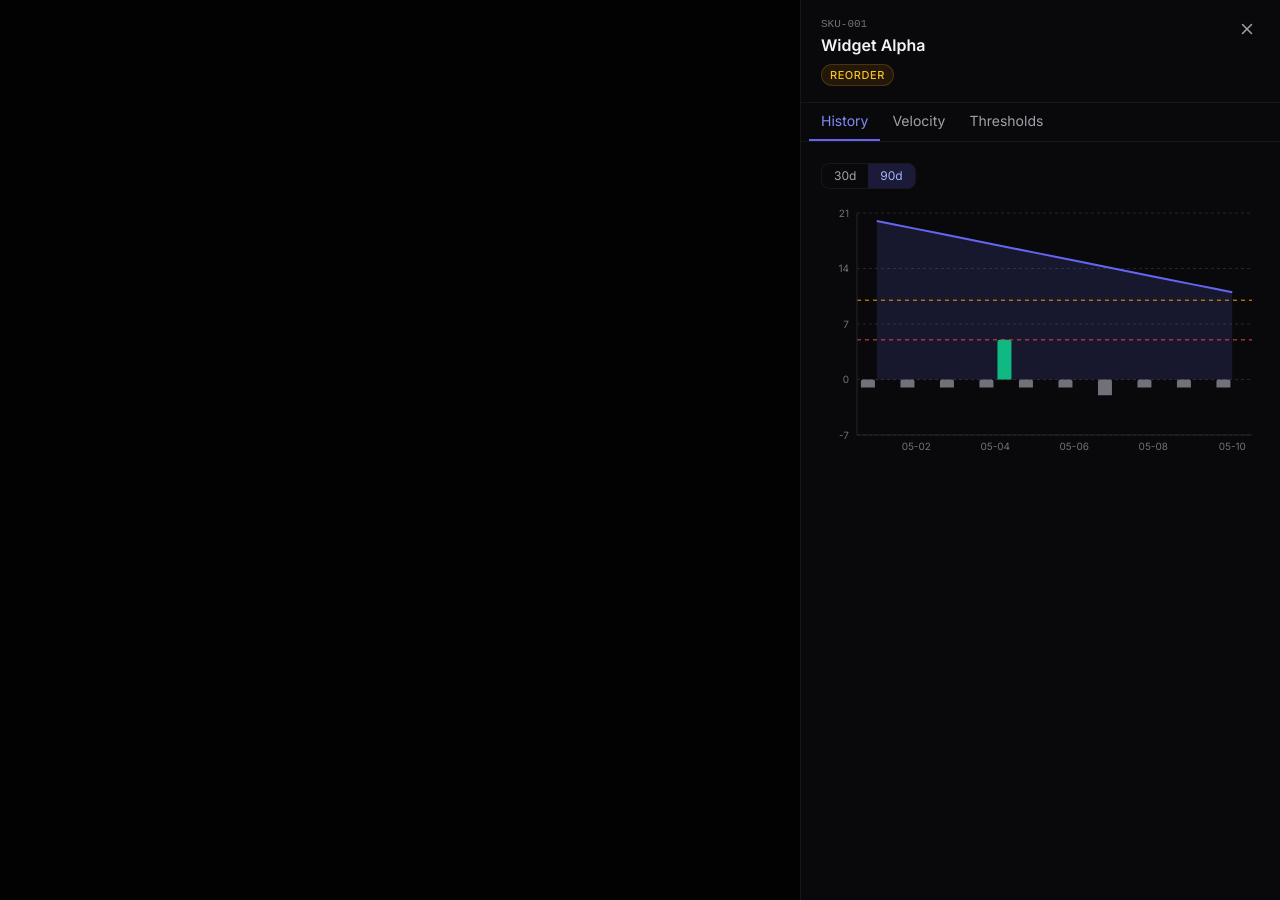
Test: ProductDrawer › velocity tab formats null projection values as ∞ and —
The image size is (1280, 900).
Click the tab "Velocity" at (919, 122), box [880, 103, 957, 141]
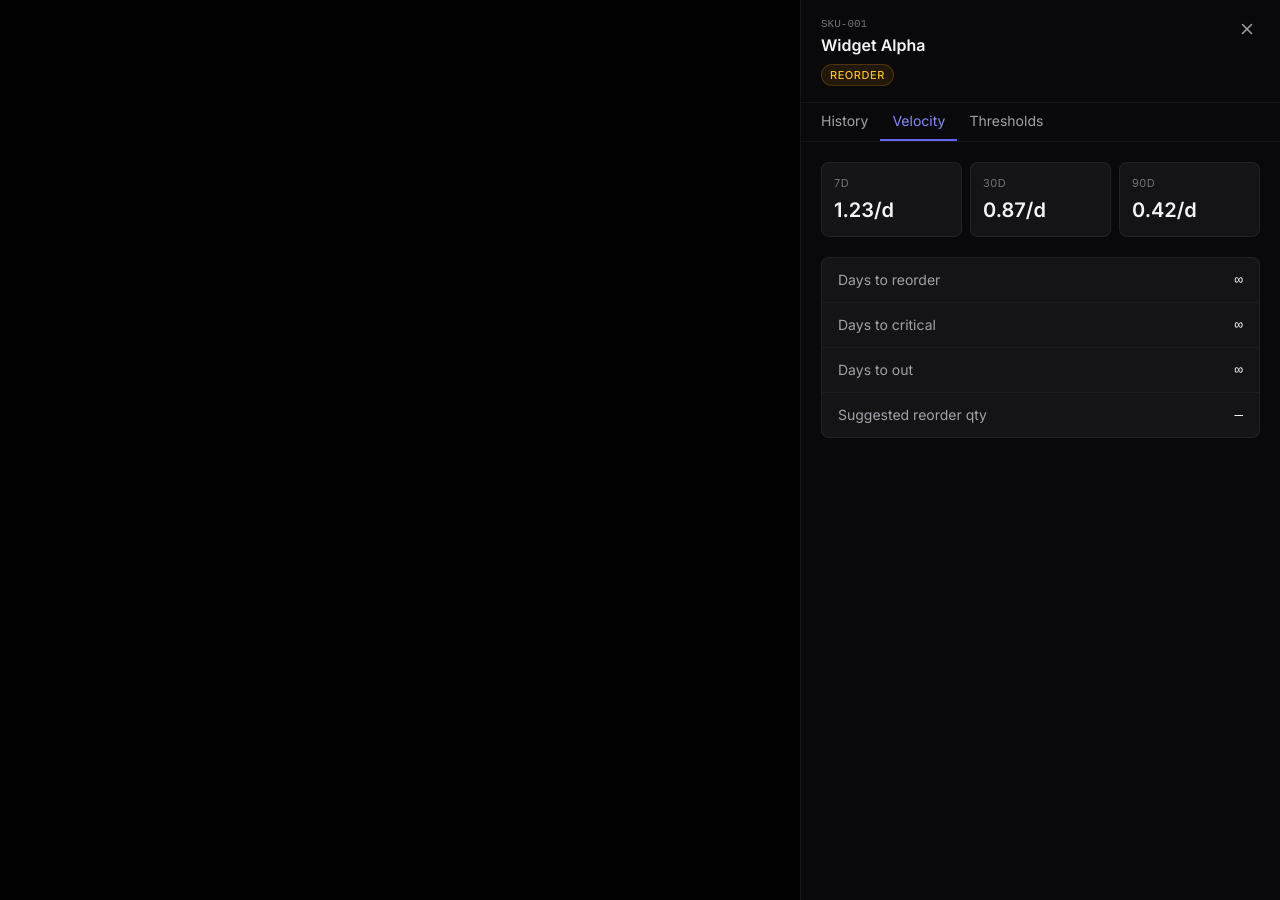
Check: the text "—" is shown, box [1235, 404, 1243, 424]
Check: the text "∞" is shown 3 times, box [1235, 270, 1243, 290]; [1235, 314, 1243, 334]; [1235, 360, 1243, 380]
